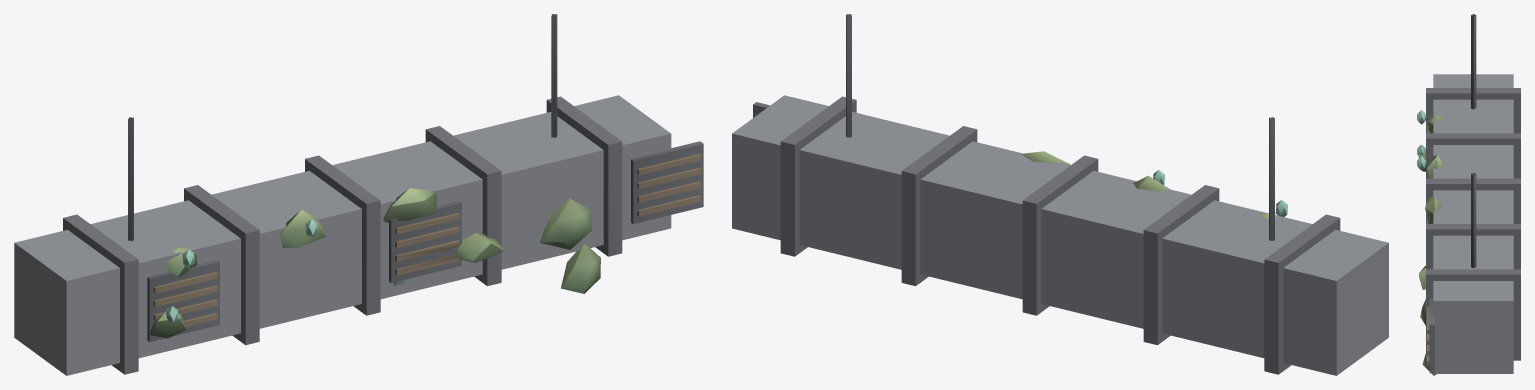
The model's file is hub_duct.glb.
3 views of the same model, side by side, from view 1: azimuth 30°, elevation 25°; view 2: azimuth 150°, elevation 25°; view 3: azimuth 270°, elevation 25° (orthographic). The views are drawn at different scales.
Parts seen in each view (by area): view 1: hub_duct; view 2: hub_duct; view 3: hub_duct.
Part boxes in pixels (x1,y1,x2,y2): hub_duct: (14, 14, 703, 375); hub_duct: (732, 14, 1388, 375); hub_duct: (1417, 14, 1520, 375).
Size of the model in its own units: 6.3 by 2.47 by 1.16.
